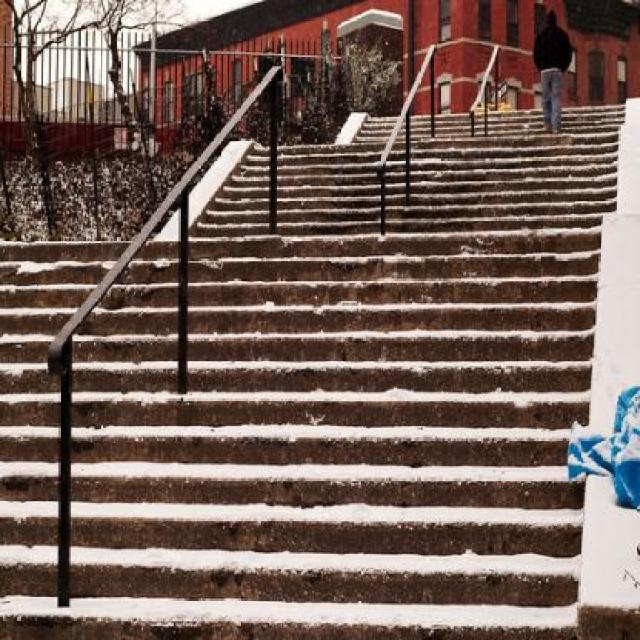stair: (65, 103, 604, 612)
